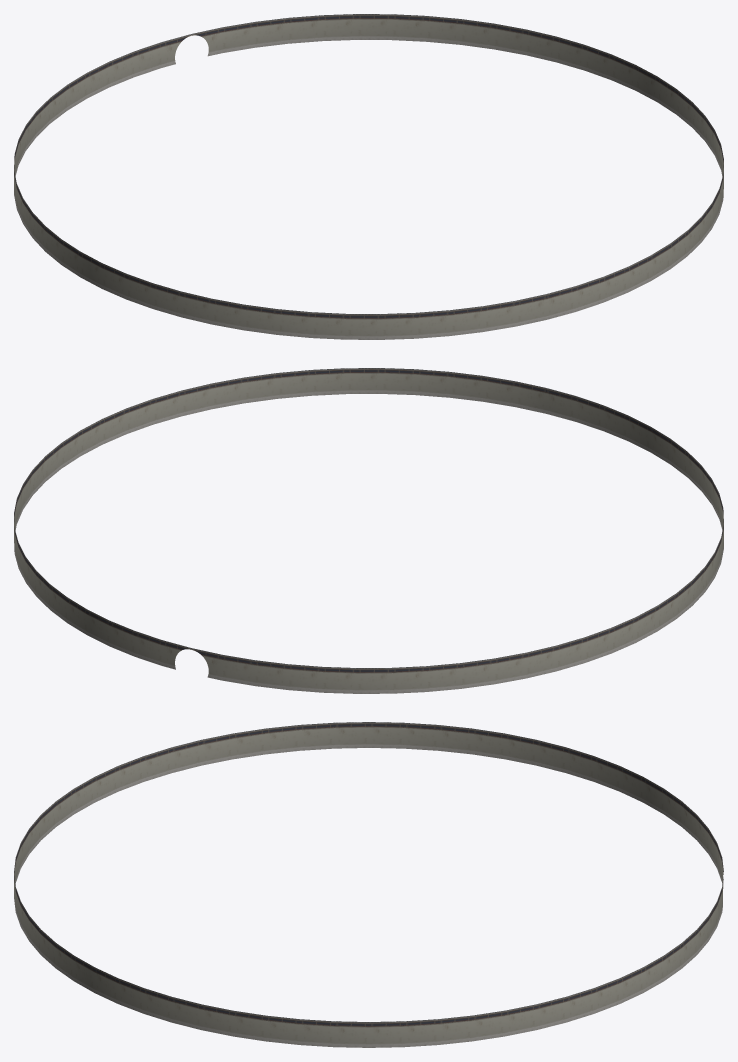
The model's file is InnerWall.dae.
3 renders of one model, top to bottom at view 1: azimuth 30°, elevation 25°; view 2: azimuth 150°, elevation 25°; view 3: azimuth 270°, elevation 25°, orthographic.
Parts seen in each view (by area): view 1: InnerWall; view 2: InnerWall; view 3: InnerWall.
Boxes of the visible parts, x1,y1,x2,y2 form: InnerWall: (14, 14, 723, 339); InnerWall: (14, 368, 723, 693); InnerWall: (14, 722, 723, 1047).
Size of the model in its own units: 197 by 197 by 7.91.
1 material, 1 textured.
